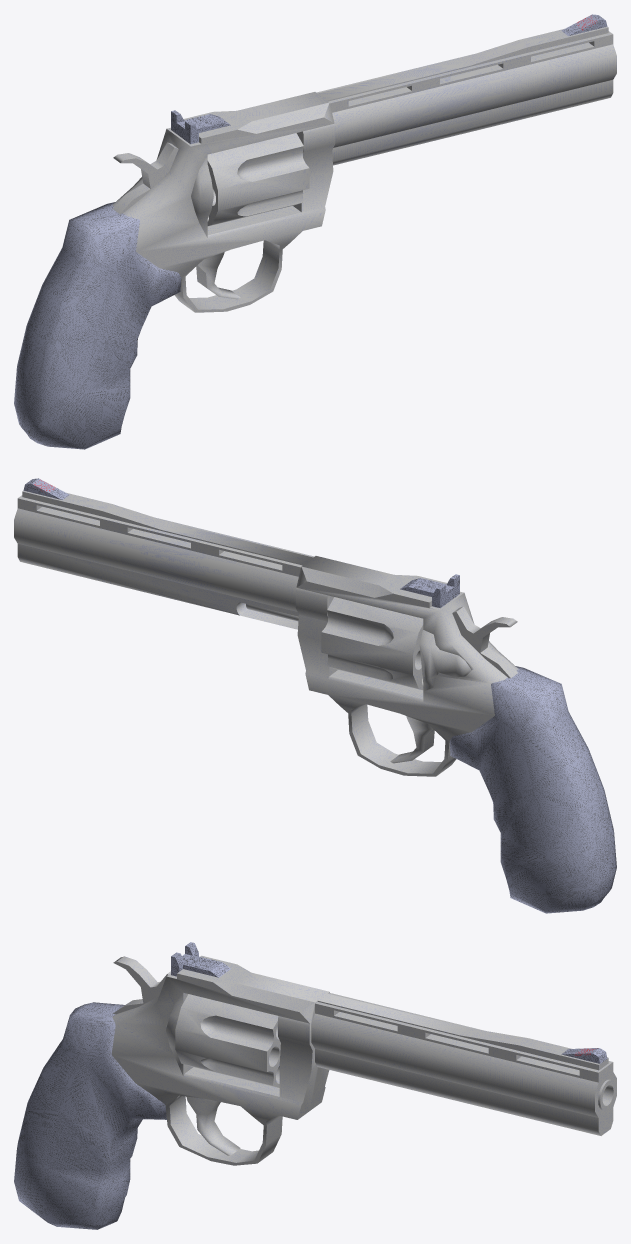
Rendered from Revolver.fbx.
3 views of the same model, one above another, from view 1: azimuth 30°, elevation 25°; view 2: azimuth 150°, elevation 25°; view 3: azimuth 330°, elevation 25° (orthographic).
Visible parts, largest first — view 1: Model; view 2: Model; view 3: Model.
Part boxes in pixels (box(x1,y1,x2,y2)): Model: box(14, 14, 616, 449); Model: box(14, 478, 616, 913); Model: box(14, 942, 616, 1229).
Bounding box in the file's own units: 27.72 × 13.4 × 3.48.
